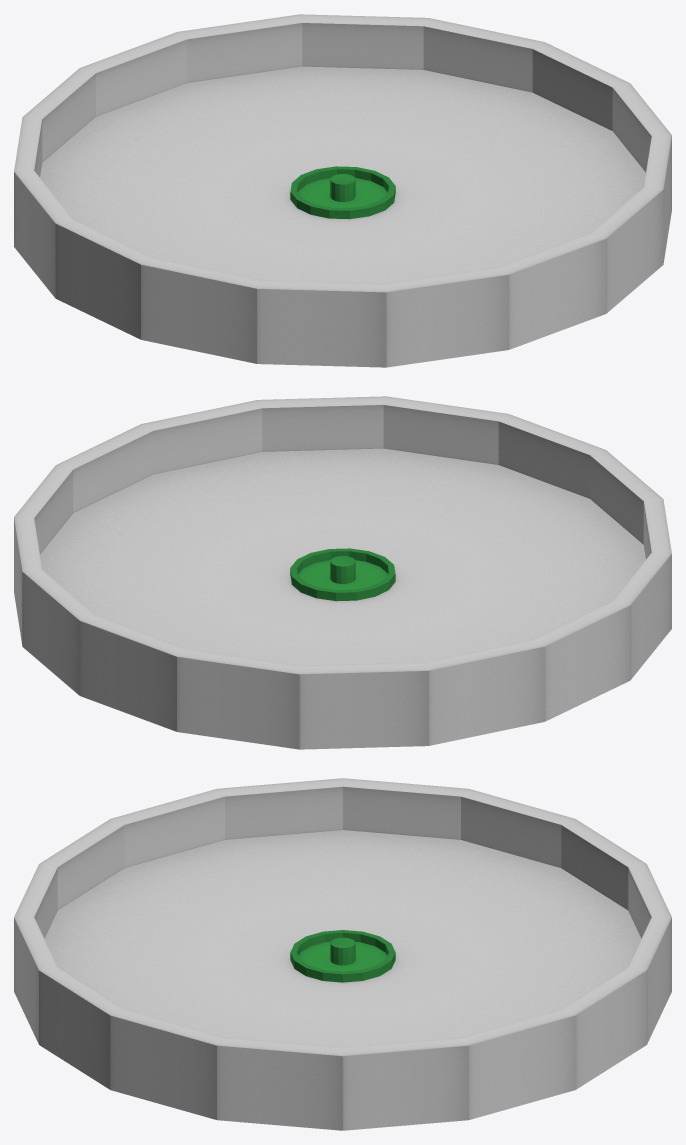
File: cenario.fbx
The picture shows the model from 3 angles, top to bottom: view 1: azimuth 30°, elevation 25°; view 2: azimuth 150°, elevation 25°; view 3: azimuth 270°, elevation 25°; orthographic projection.
Parts seen in each view (by area): view 1: Cylinder; view 2: Cylinder; view 3: Cylinder.
Part boxes in pixels (<box>): Cylinder: <box>14,14,671,367</box>; Cylinder: <box>14,396,671,749</box>; Cylinder: <box>14,778,671,1130</box>.
Bounding box in the file's own units: 4000 × 500 × 4000.
